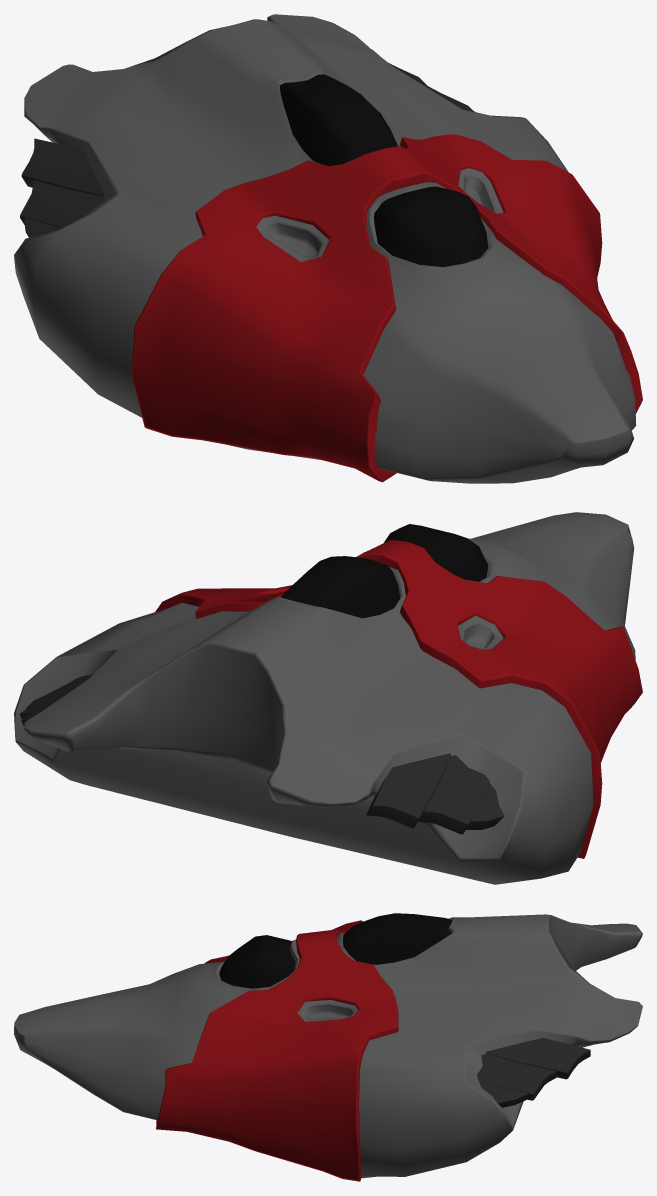
File: Ship_Boos_01_Hull.fbx
3 renders of one model, top to bottom at view 1: azimuth 30°, elevation 25°; view 2: azimuth 150°, elevation 25°; view 3: azimuth 270°, elevation 25°, orthographic. The views are drawn at different scales.
Visible parts, largest first — view 1: Ship_Boos_01_Hull; view 2: Ship_Boos_01_Hull; view 3: Ship_Boos_01_Hull.
Part boxes in pixels (x1,y1,x2,y2): Ship_Boos_01_Hull: (14,14,642,483); Ship_Boos_01_Hull: (14,512,642,884); Ship_Boos_01_Hull: (14,913,642,1181).
Size of the model in its own units: 872 by 455 by 1283.
